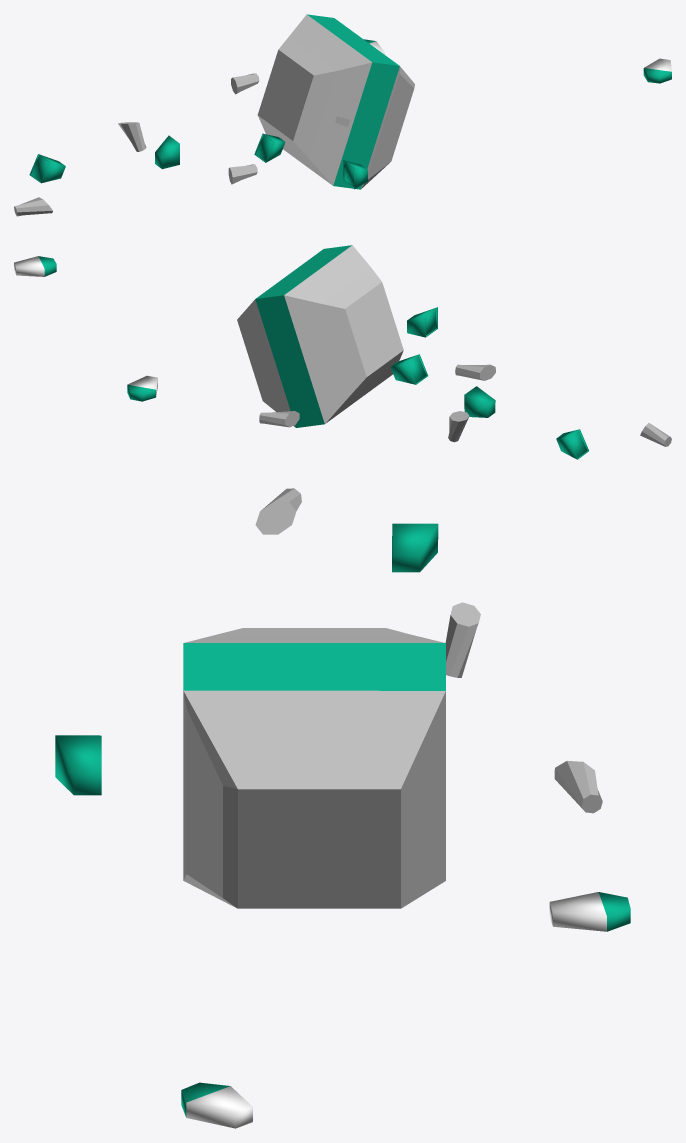
The model's file is crashedLander 1.fbx.
3 views of the same model, one above another, from view 1: azimuth 30°, elevation 25°; view 2: azimuth 150°, elevation 25°; view 3: azimuth 270°, elevation 25° (orthographic). The views are drawn at different scales.
Visible parts, largest first — view 1: polySurface23, polySurface25, polySurface26, polySurface27, polySurface22, polySurface7, pCylinder4, pCylinder2, pCylinder1, pCylinder3; view 2: polySurface23, polySurface27, polySurface26, polySurface22, polySurface7, polySurface25, polySurface9, pCylinder3, pCylinder1, pCylinder2, pCylinder4; view 3: polySurface23, polySurface7, polySurface9, polySurface22, polySurface25, pCylinder2, pCylinder3, pCylinder4.
Boxes of the visible parts, box(x1,y1,x2,y2) form: polySurface23: box(257, 14, 414, 189); polySurface25: box(29, 154, 65, 183); polySurface26: box(155, 135, 179, 169); polySurface27: box(254, 133, 285, 162); polySurface22: box(643, 58, 671, 83); polySurface7: box(343, 160, 367, 189); pCylinder4: box(14, 197, 52, 216); pCylinder2: box(118, 122, 146, 151); pCylinder1: box(228, 164, 257, 184); pCylinder3: box(231, 73, 259, 94); polySurface23: box(237, 245, 403, 427); polySurface27: box(390, 354, 428, 384); polySurface26: box(464, 386, 495, 417); polySurface22: box(14, 256, 56, 276); polySurface7: box(407, 307, 437, 337); polySurface25: box(556, 429, 588, 459); polySurface9: box(127, 375, 157, 401); pCylinder3: box(259, 411, 299, 427); pCylinder1: box(455, 364, 495, 380); pCylinder2: box(448, 411, 469, 442); pCylinder4: box(640, 423, 671, 446); polySurface23: box(183, 628, 445, 908); polySurface7: box(55, 735, 101, 795); polySurface9: box(549, 892, 630, 931); polySurface22: box(181, 1082, 252, 1128); polySurface25: box(392, 523, 438, 572); pCylinder2: box(445, 602, 480, 677); pCylinder3: box(554, 760, 602, 813); pCylinder4: box(255, 488, 301, 534).
Bounding box in the file's own units: 519 × 96.15 × 201.
